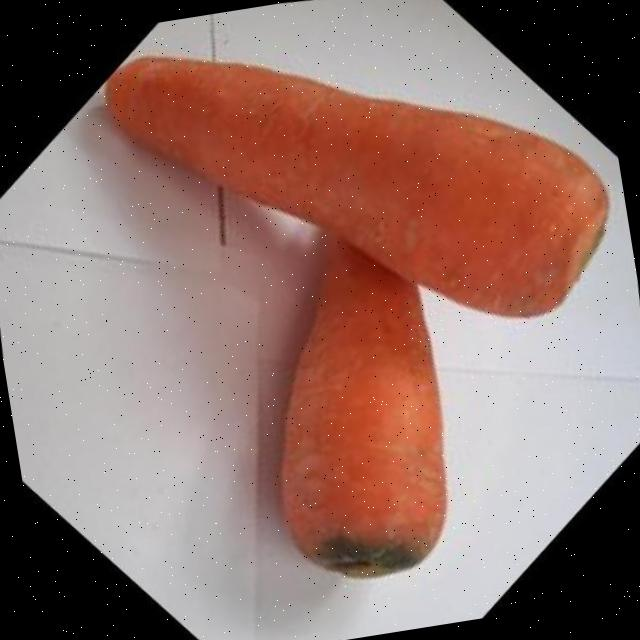carrot: (106, 59, 607, 316), (281, 250, 446, 578)
